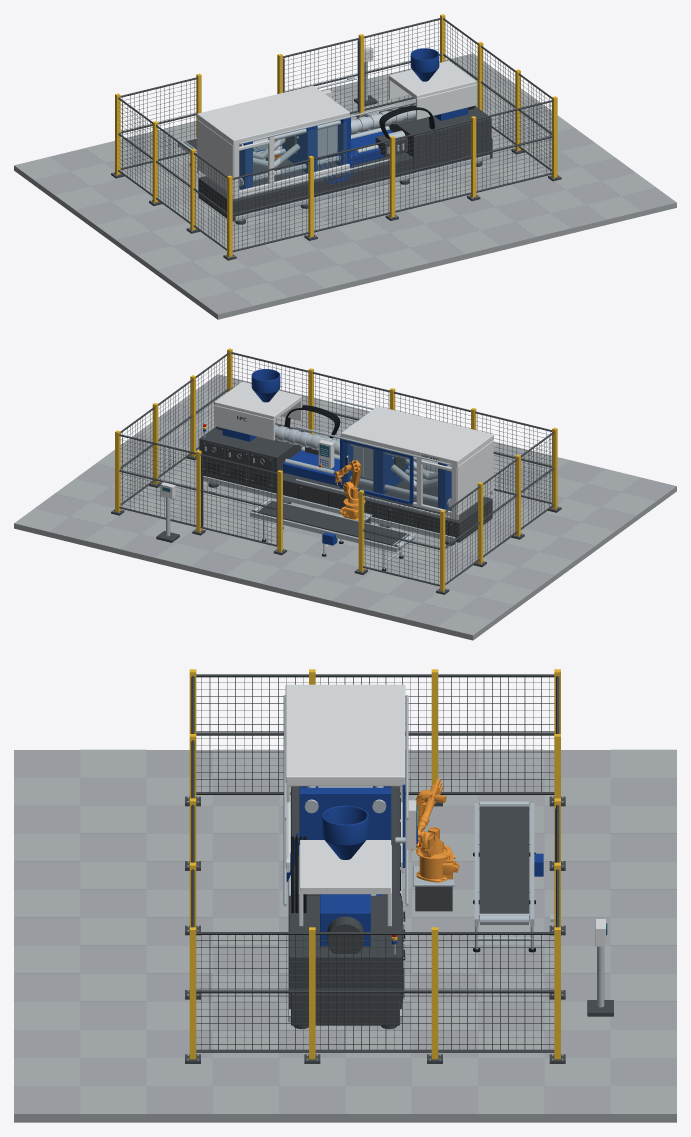
Rendered from npc470g_cell.glb.
3 renders of one model, top to bottom at view 1: azimuth 30°, elevation 25°; view 2: azimuth 150°, elevation 25°; view 3: azimuth 270°, elevation 25°, orthographic. The views are drawn at different scales.
Visible parts, largest first — view 1: FactoryFloor, FloorTiles, SafetyFenceMesh, CoverClamp, SafetyFencePosts, Base, SafetyFenceFrames, ClampWindowGlazing, ElectricalCabinet, CoverInjection, InjectionUnit, SafetyDoorRails (+8 smaller); view 2: FactoryFloor, FloorTiles, SafetyFenceMesh, CoverClamp, SafetyFencePosts, Base, SafetyFenceFrames, ElectricalCabinet, OutfeedConveyor, CoverInjection, SafetyDoorGlazing, InjectionUnit (+11 smaller); view 3: FactoryFloor, FloorTiles, SafetyFenceMesh, CoverClamp, SafetyFencePosts, SafetyFenceFrames, OutfeedConveyor, ElectricalCabinet, Base, CoverInjection, ClampFixedPlaten, DriveHousing (+6 smaller).
Part boxes in pixels (x1=…): FactoryFloor: x1=14, y1=68, x2=676, y2=319; FloorTiles: x1=14, y1=53, x2=655, y2=305; SafetyFenceMesh: x1=119, y1=20, x2=552, y2=249; CoverClamp: x1=197, y1=85, x2=349, y2=199; SafetyFencePosts: x1=111, y1=14, x2=561, y2=260; Base: x1=198, y1=138, x2=492, y2=224; SafetyFenceFrames: x1=118, y1=18, x2=553, y2=252; ClampWindowGlazing: x1=239, y1=122, x2=346, y2=189; ElectricalCabinet: x1=379, y1=102, x2=491, y2=168; CoverInjection: x1=388, y1=60, x2=476, y2=119; InjectionUnit: x1=351, y1=126, x2=407, y2=165; SafetyDoorRails: x1=239, y1=77, x2=394, y2=197; FactoryFloor: x1=14, y1=374, x2=676, y2=640; FloorTiles: x1=14, y1=389, x2=655, y2=635; SafetyFenceMesh: x1=119, y1=354, x2=553, y2=584; CoverClamp: x1=341, y1=406, x2=493, y2=519; SafetyFencePosts: x1=111, y1=348, x2=561, y2=594; Base: x1=203, y1=471, x2=492, y2=545; SafetyFenceFrames: x1=119, y1=352, x2=554, y2=586; ElectricalCabinet: x1=199, y1=423, x2=311, y2=489; OutfeedConveyor: x1=250, y1=499, x2=415, y2=569; CoverInjection: x1=214, y1=381, x2=302, y2=440; SafetyDoorGlazing: x1=345, y1=442, x2=408, y2=500; InjectionUnit: x1=283, y1=447, x2=339, y2=486; FactoryFloor: x1=14, y1=750, x2=676, y2=1122; FloorTiles: x1=14, y1=749, x2=676, y2=1113; SafetyFenceMesh: x1=196, y1=677, x2=554, y2=1049; CoverClamp: x1=285, y1=684, x2=405, y2=872; SafetyFencePosts: x1=185, y1=669, x2=565, y2=1063; SafetyFenceFrames: x1=191, y1=674, x2=559, y2=1052; OutfeedConveyor: x1=474, y1=801, x2=543, y2=949; ElectricalCabinet: x1=289, y1=895, x2=404, y2=1008; Base: x1=288, y1=786, x2=402, y2=1029; CoverInjection: x1=299, y1=840, x2=391, y2=926; ClampFixedPlaten: x1=299, y1=787, x2=391, y2=840; DriveHousing: x1=320, y1=894, x2=370, y2=953.
Bounding box in the file's own units: 13 × 3.13 × 10.
